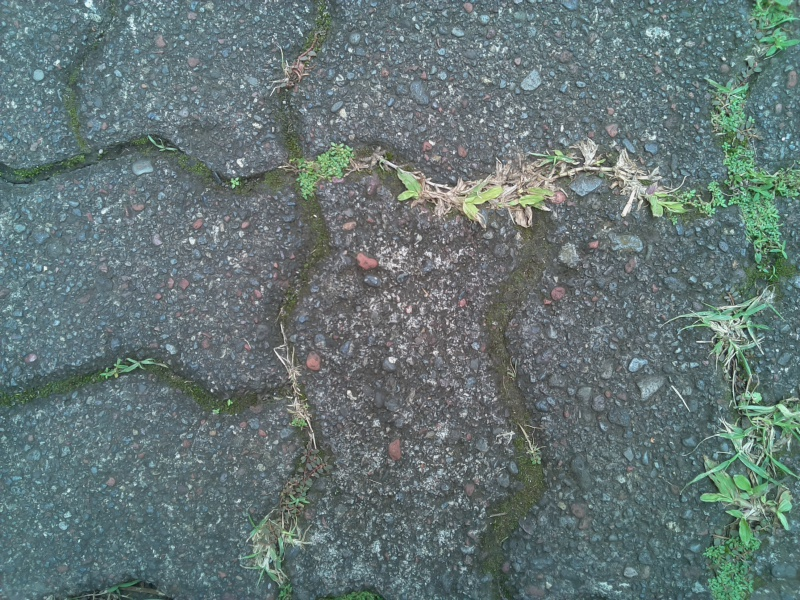Weed: (698, 77, 800, 280), (705, 396, 800, 544), (387, 164, 574, 221), (690, 295, 774, 384), (605, 150, 688, 225), (695, 534, 776, 600), (238, 511, 301, 581), (272, 347, 321, 433), (288, 141, 355, 200), (746, 2, 800, 59), (100, 355, 164, 386)
